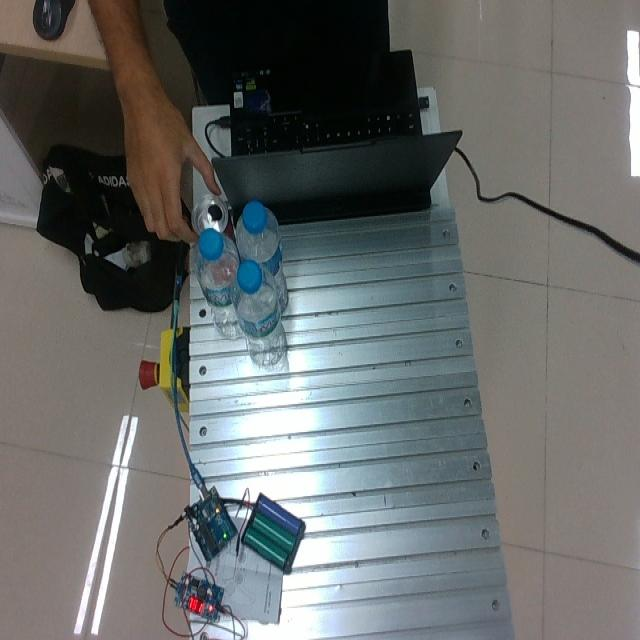coca: (190, 193, 232, 239)
lavie: (235, 200, 288, 316), (193, 224, 243, 339), (234, 260, 286, 367)
